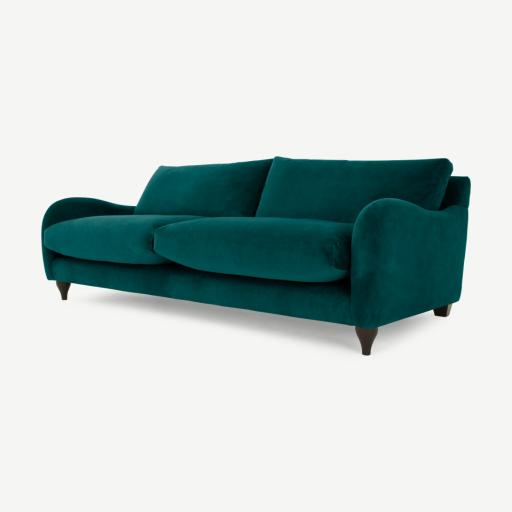back_cushion: (136, 157, 447, 222)
base: (51, 256, 352, 324)
left_arm: (350, 199, 467, 327)
legs: (356, 327, 377, 355), (56, 281, 70, 300), (435, 304, 452, 317)
right_arm: (42, 198, 135, 279)
seat_cushion: (43, 214, 352, 282)
two-seater: (0, 0, 511, 512)
